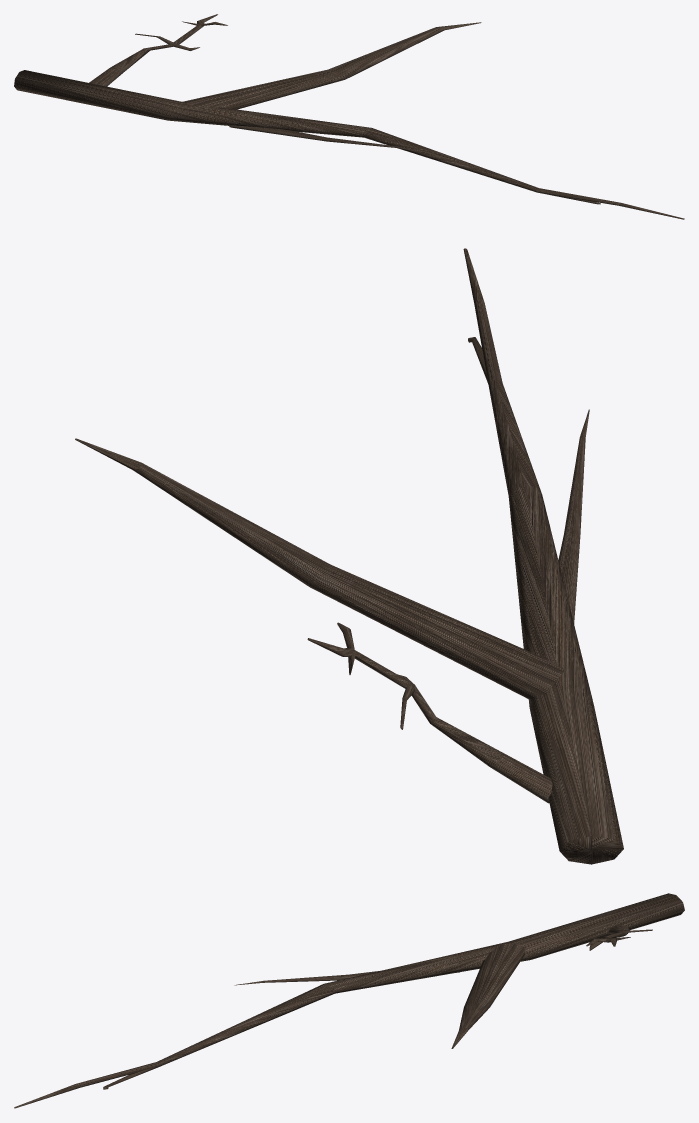
The model's file is petite branche.fbx.
3 views of the same model, one above another, from view 1: azimuth 30°, elevation 25°; view 2: azimuth 150°, elevation 25°; view 3: azimuth 270°, elevation 25° (orthographic). The views are drawn at different scales.
Visible parts, largest first — view 1: petite branche; view 2: petite branche; view 3: petite branche.
Boxes of the visible parts, x1,y1,x2,y2 form: petite branche: (14,14,684,219); petite branche: (75,248,623,864); petite branche: (14,893,684,1108).
Size of the model in its own units: 43.18 by 6.43 by 60.71.
